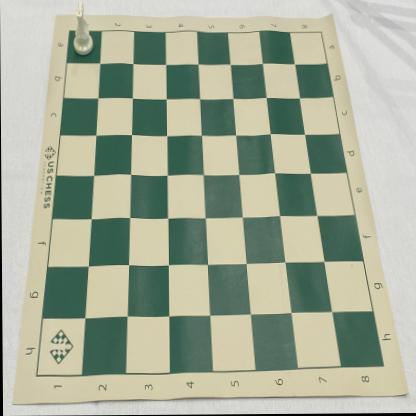white-knight: (72, 0, 95, 58)
